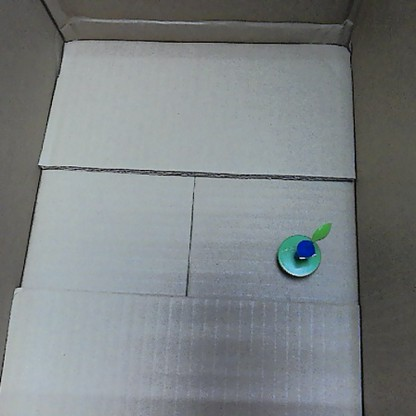leafairy: (274, 221, 331, 281)
